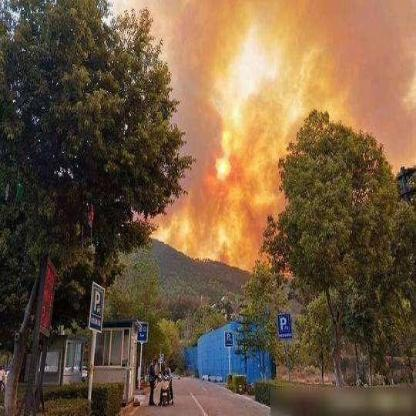fire: (160, 141, 276, 280)
smoke: (192, 0, 412, 146)
